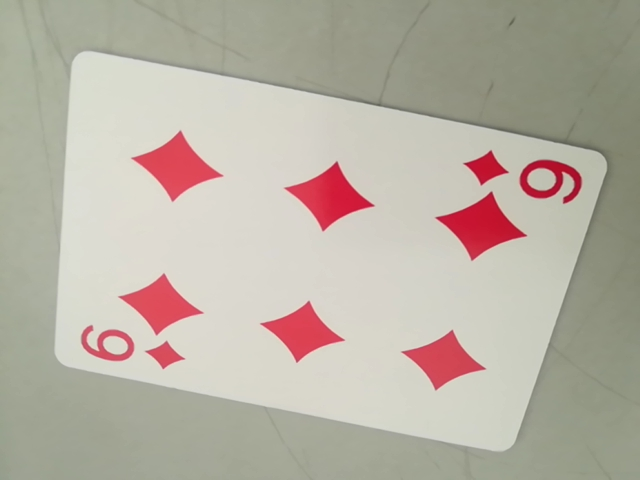fk 6: (461, 149, 589, 202), (69, 323, 193, 375)
